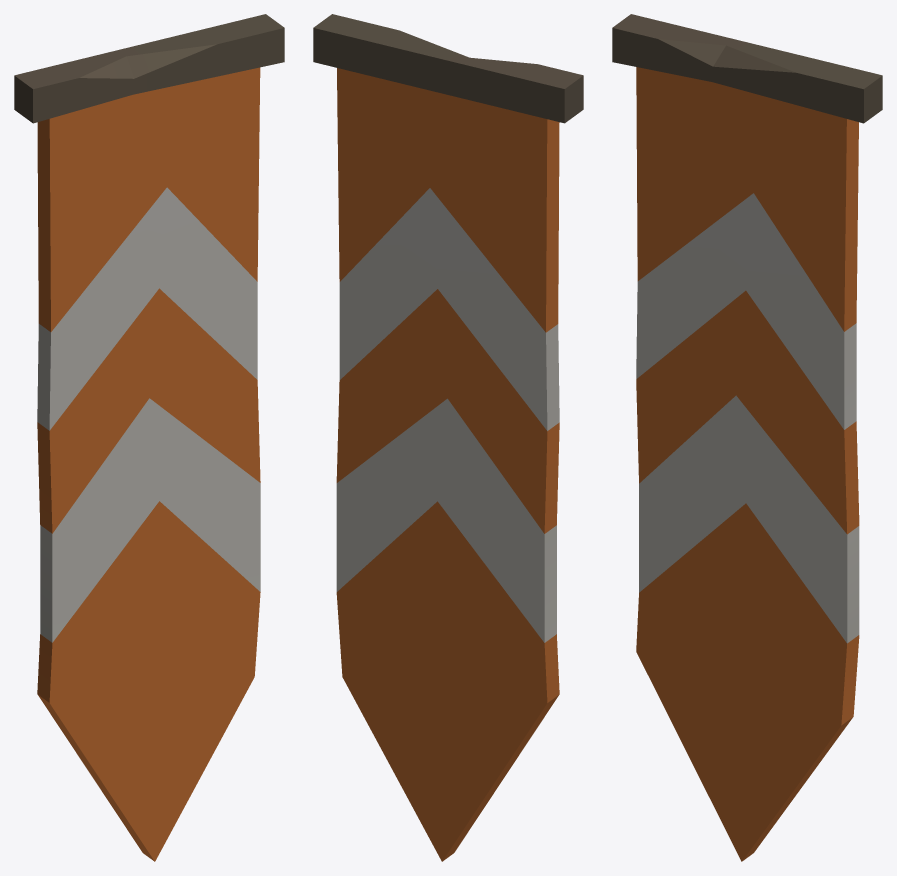
Rendered from kingdom_SM_Prop_Banner_03.gltf.
3 renders of one model, left to right at view 1: azimuth 30°, elevation 25°; view 2: azimuth 150°, elevation 25°; view 3: azimuth 330°, elevation 25°, orthographic.
Parts seen in each view (by area): view 1: SM_Prop_Banner_03; view 2: SM_Prop_Banner_03; view 3: SM_Prop_Banner_03.
Part boxes in pixels (bbox=[...]): SM_Prop_Banner_03: bbox=[14, 14, 284, 861]; SM_Prop_Banner_03: bbox=[313, 14, 583, 861]; SM_Prop_Banner_03: bbox=[612, 14, 882, 861].
Bounding box in the file's own units: 0.7108 × 2.18 × 0.0926.
1 material, 1 textured.
